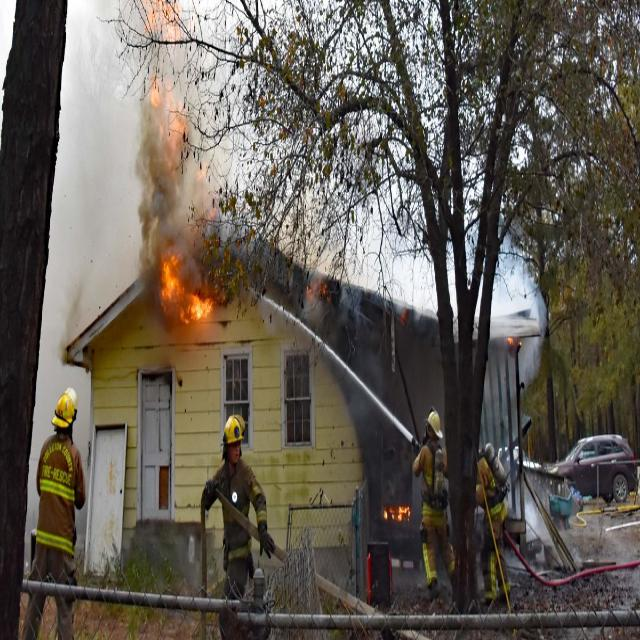fire: (163, 266, 212, 324)
smoke: (62, 112, 139, 292)
